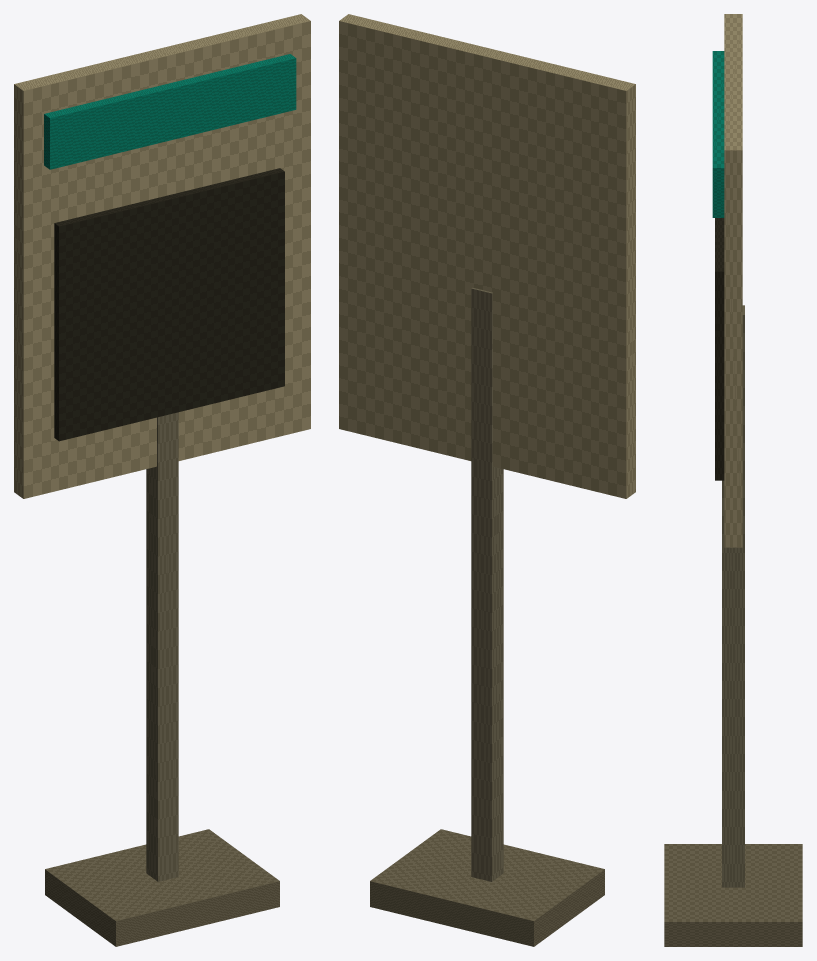
The model's file is prop_hr_poster.glb.
3 renders of one model, left to right at view 1: azimuth 30°, elevation 25°; view 2: azimuth 150°, elevation 25°; view 3: azimuth 270°, elevation 25°, orthographic. The views are drawn at different scales.
Parts seen in each view (by area): view 1: prop_hr_poster; view 2: prop_hr_poster; view 3: prop_hr_poster.
Part boxes in pixels (x1,y1,x2,y2): prop_hr_poster: (14, 14, 310, 946); prop_hr_poster: (339, 14, 635, 946); prop_hr_poster: (664, 14, 802, 946).
Bounding box in the file's own units: 0.7 × 1.98 × 0.3.
Materials: 1 (1 with a texture image).
